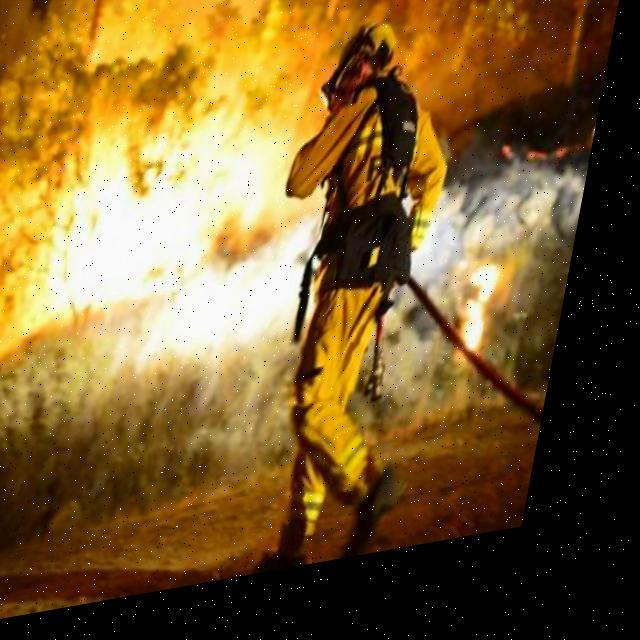Fire: (51, 124, 246, 334)
